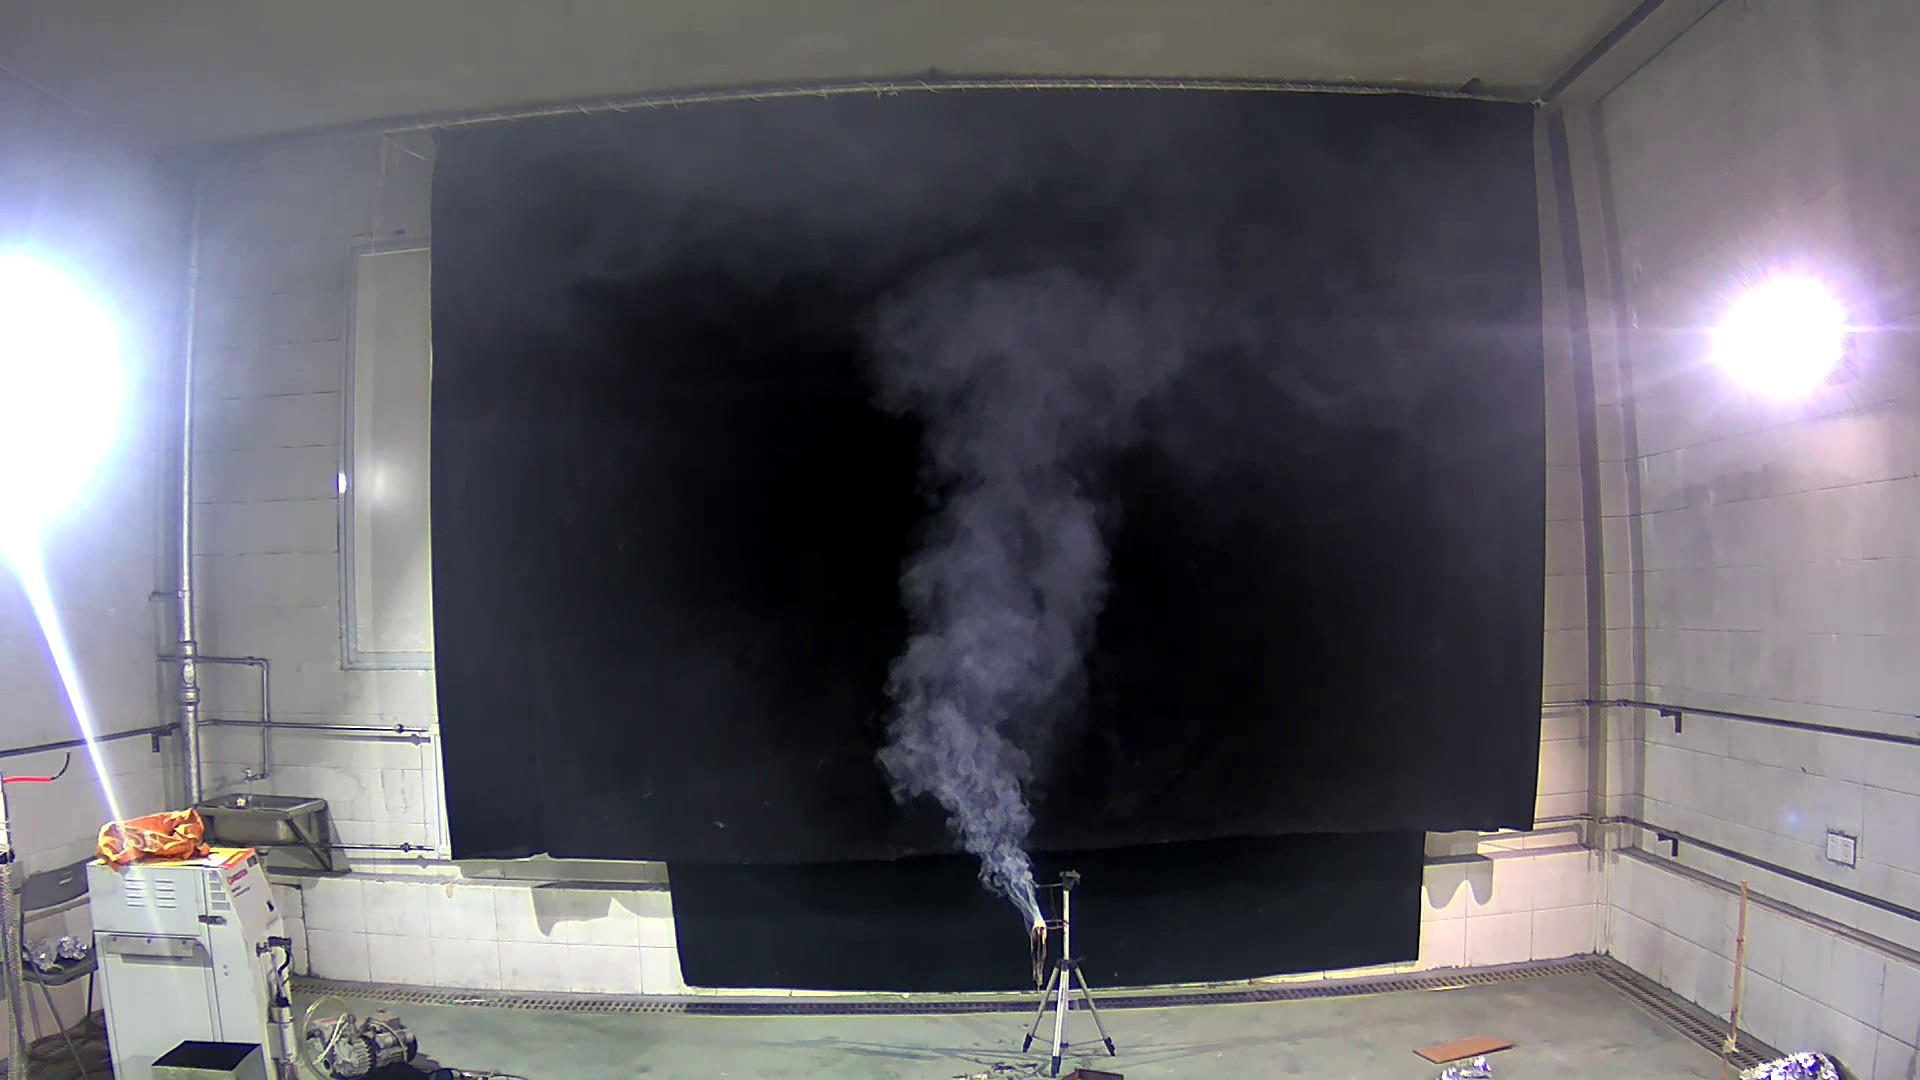smoke: (847, 211, 1207, 920)
